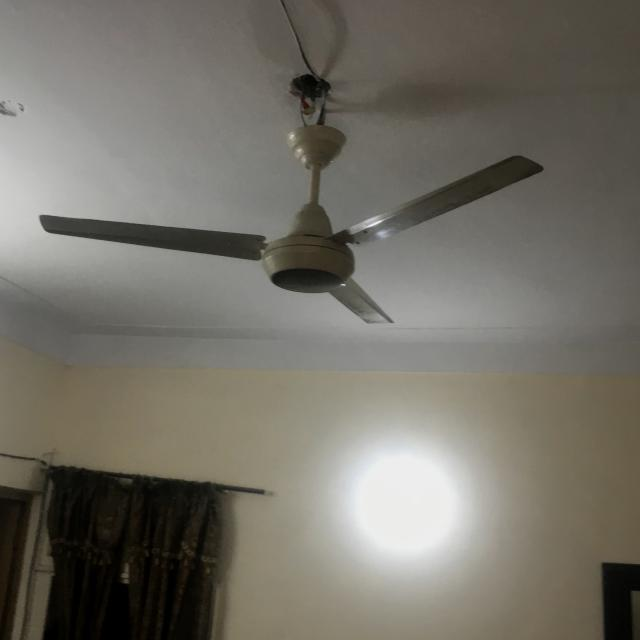off: (33, 147, 550, 331)
